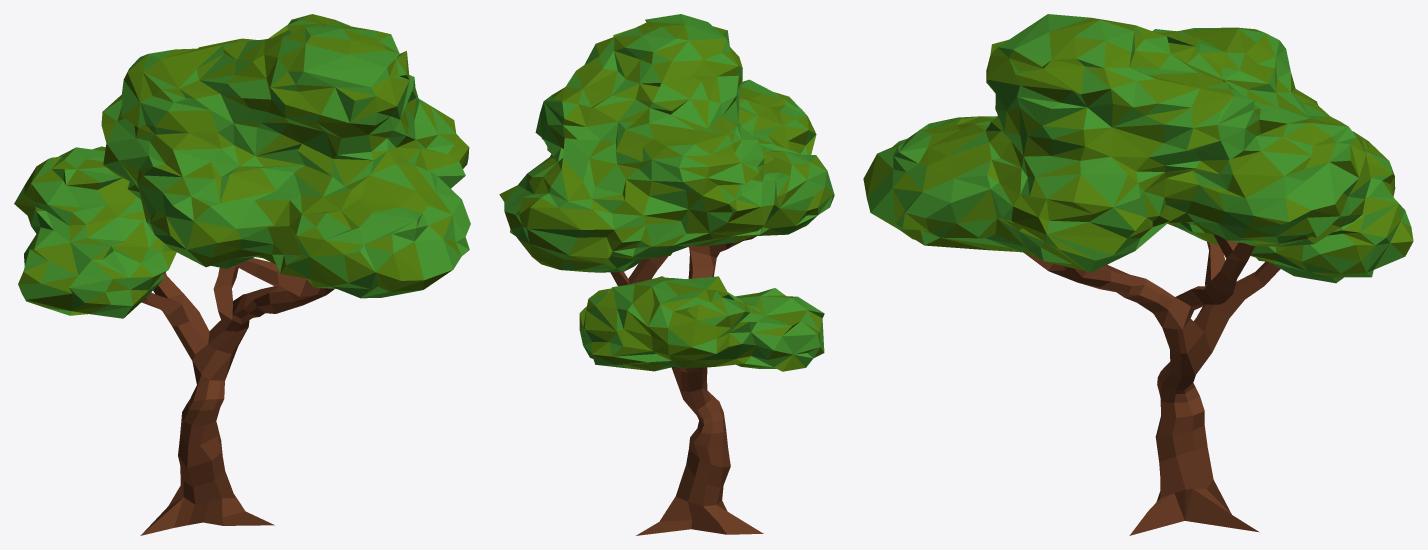
Rendered from tree_medium_2.fbx.
The picture shows the model from 3 angles, left to right: view 1: azimuth 30°, elevation 25°; view 2: azimuth 150°, elevation 25°; view 3: azimuth 270°, elevation 25°; orthographic projection. The views are drawn at different scales.
Visible parts, largest first — view 1: Leaves, TreeBase; view 2: Leaves, TreeBase; view 3: Leaves, TreeBase.
Part boxes in pixels (box(x1,y1,x2,y2)): Leaves: box(14, 14, 470, 318); TreeBase: box(140, 258, 334, 535); Leaves: box(499, 14, 834, 371); TreeBase: box(610, 236, 763, 535); Leaves: box(863, 14, 1413, 283); TreeBase: box(1024, 234, 1280, 535).
Size of the model in its own units: 937 by 1210 by 1144.
